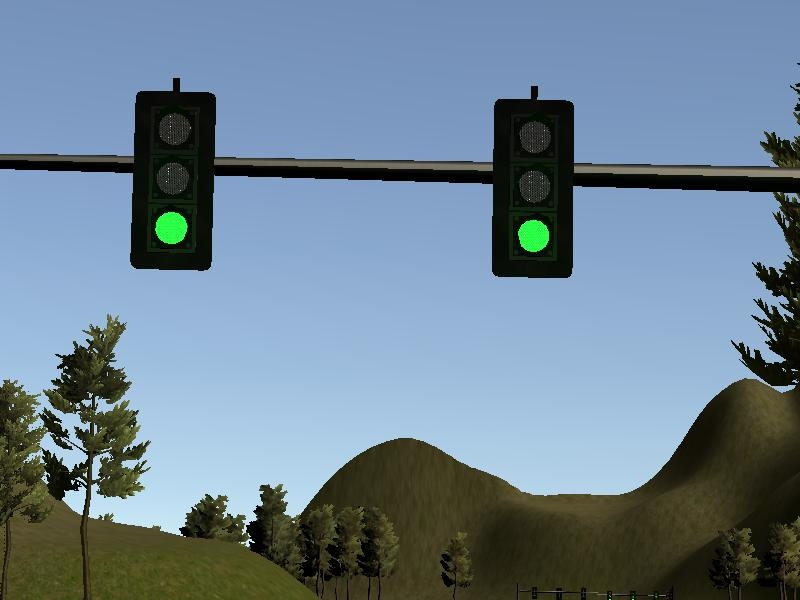GREEN: (128, 88, 213, 270), (493, 98, 573, 281)
